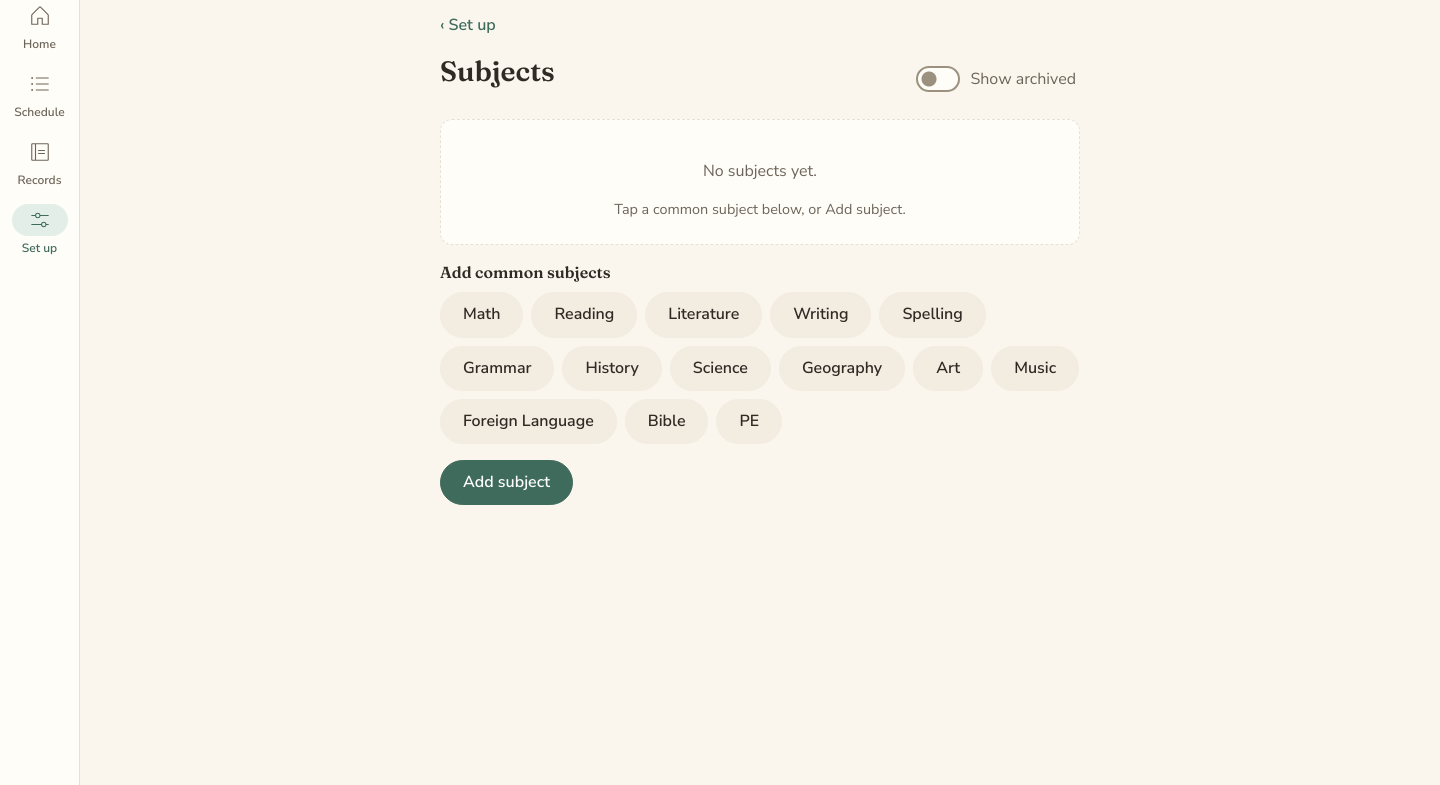
the subject form's picker › follows the name while adding, and sends no icon when untouched (the API picks the same one)
This screenshot has width=1440, height=785.
Click the button "Add subject" at x=506, y=483, box [440,460,573,505]
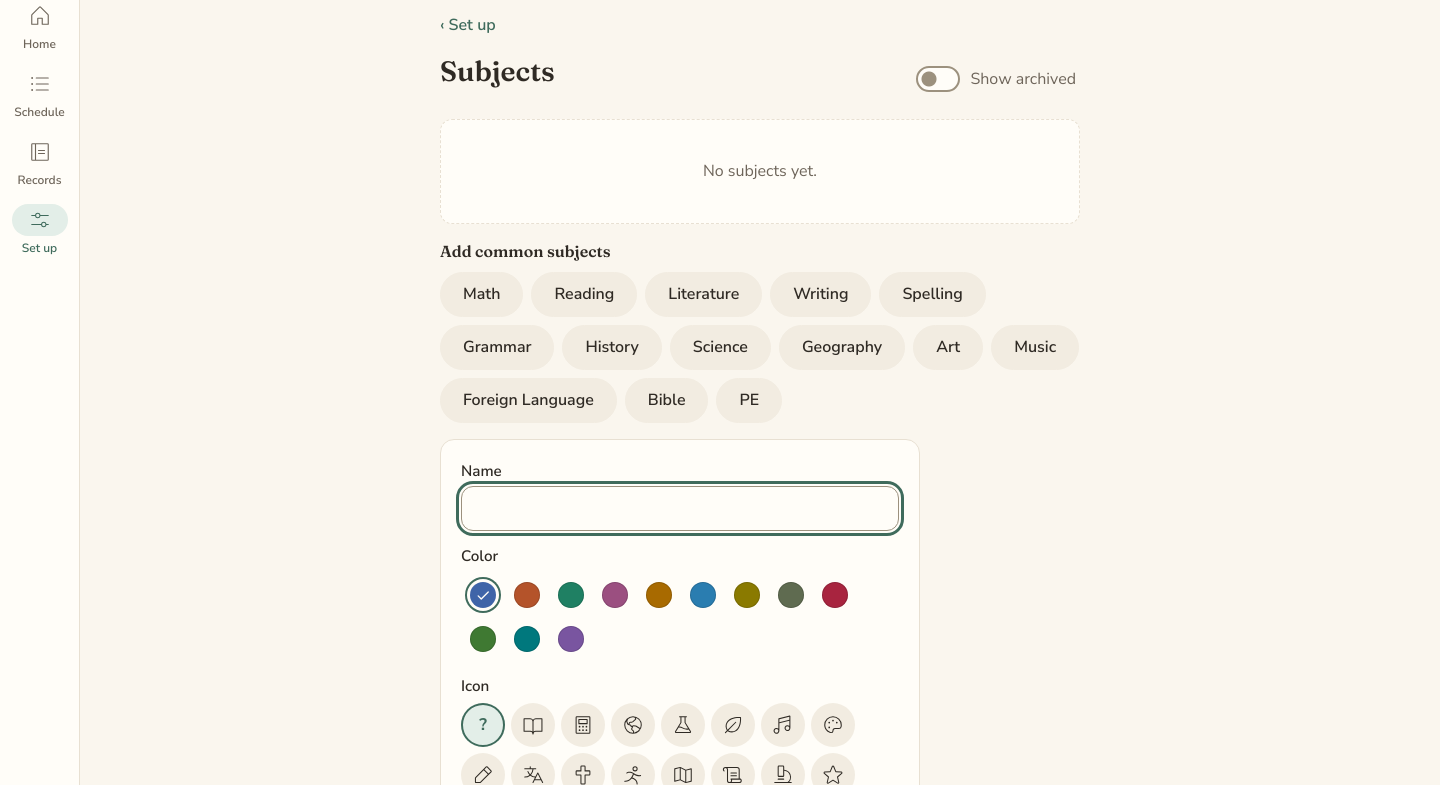
Type "Science" into the field labelled "Name" at x=680, y=509, box [461,486,899,531]
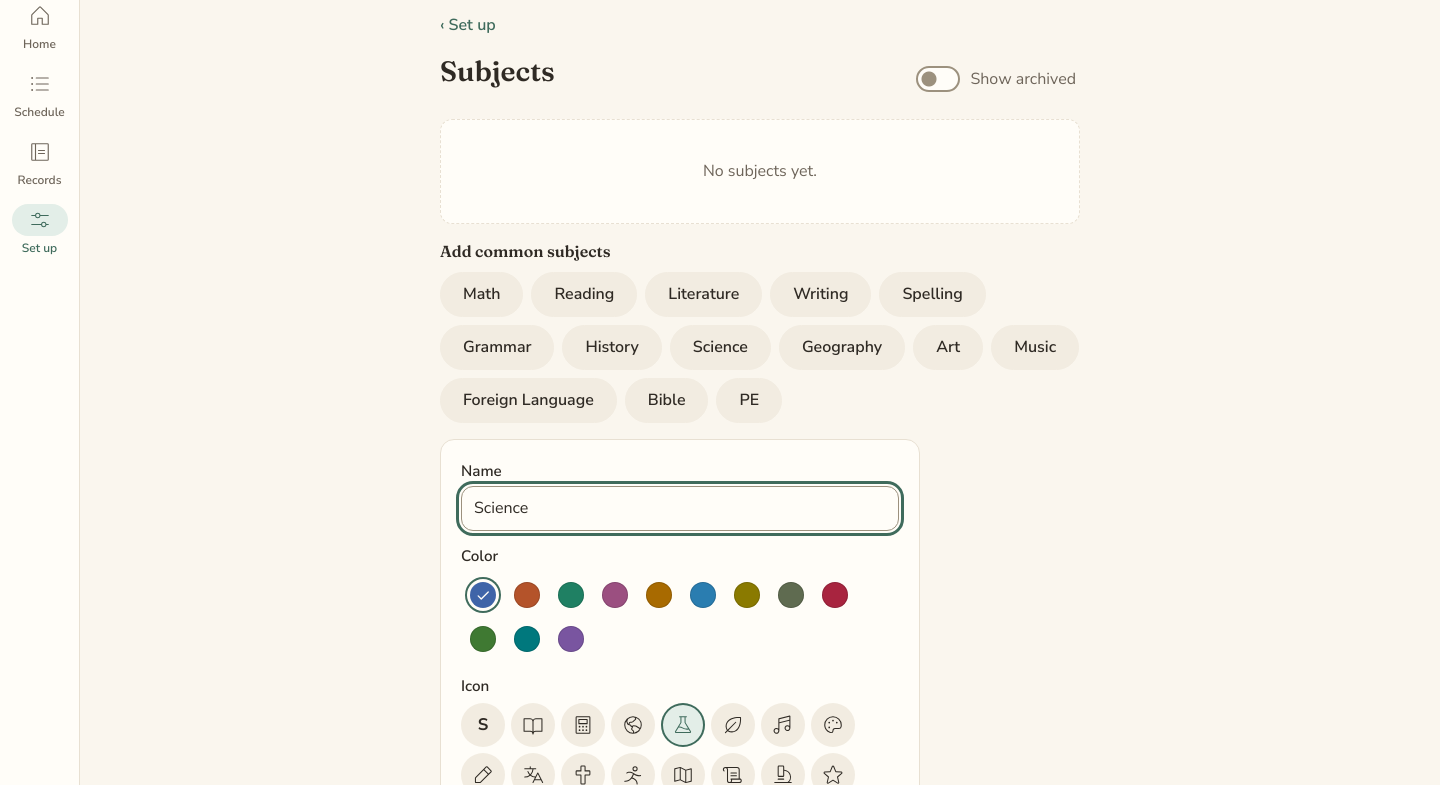
Now the radio button named "Flask" is checked, box [661,703,705,747]
Replace the text in the field labelled "Name" with "Chess club" at x=680, y=509, box [461,486,899,531]
(page scrolled)
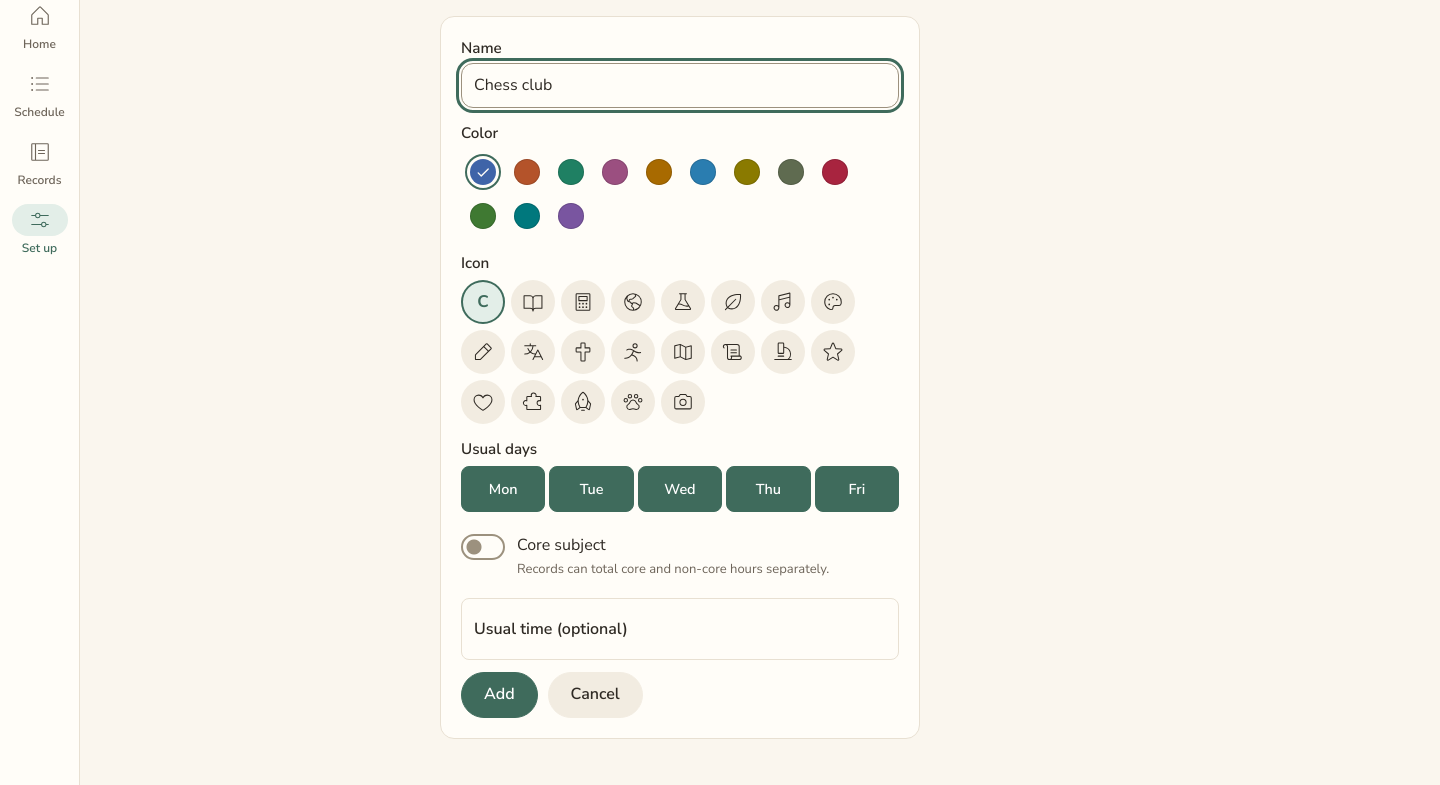
Now the radio button named "Letter" is checked, box [461,280,505,324]
Click the button "Add" at x=499, y=695, box [461,672,538,718]
(page scrolled)
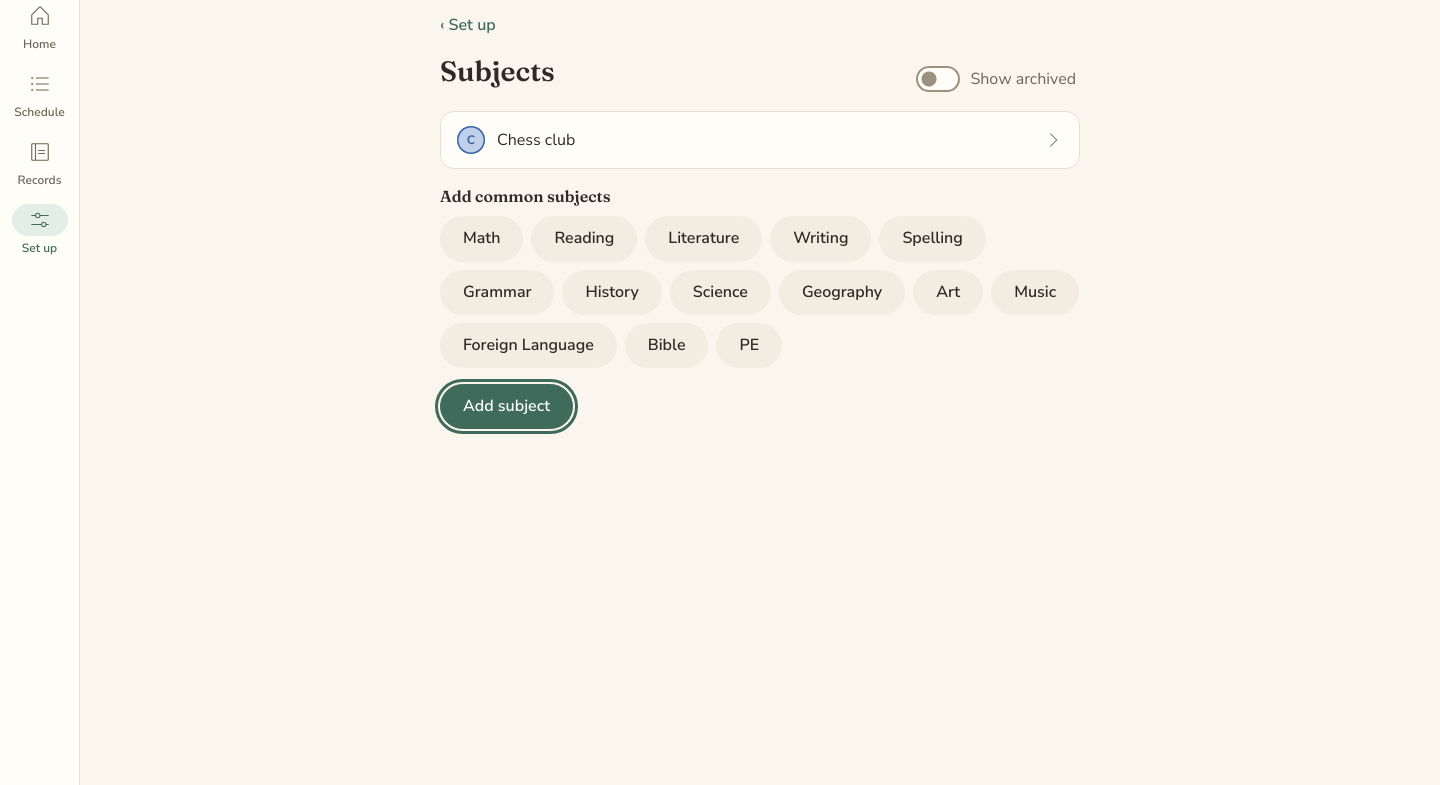
Now the text "Chess club" is shown, box [497,129,575,151]
